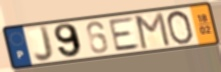6: (85, 20, 110, 55)
9: (54, 22, 85, 60)
E: (107, 15, 143, 53)
J: (33, 25, 56, 63)
M: (134, 11, 173, 51)
O: (165, 9, 195, 46)
